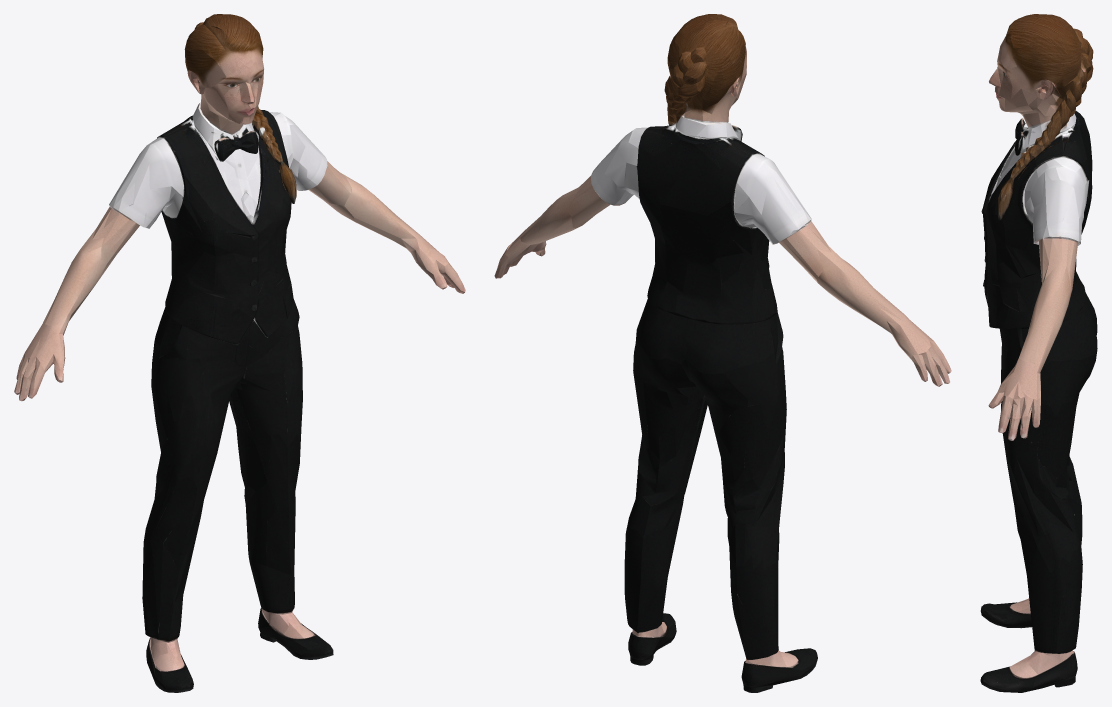
File: image3d.glb
3 renders of one model, left to right at view 1: azimuth 30°, elevation 25°; view 2: azimuth 150°, elevation 25°; view 3: azimuth 270°, elevation 25°, orthographic.
Bounding box in the file's own units: 1.38 × 1.9 × 0.3165.
Materials: 1 (1 with a texture image).
